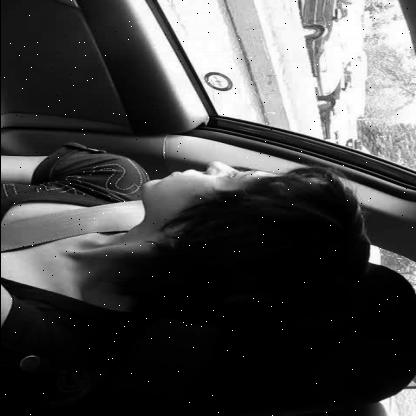seatbelt: (0, 163, 366, 317)
